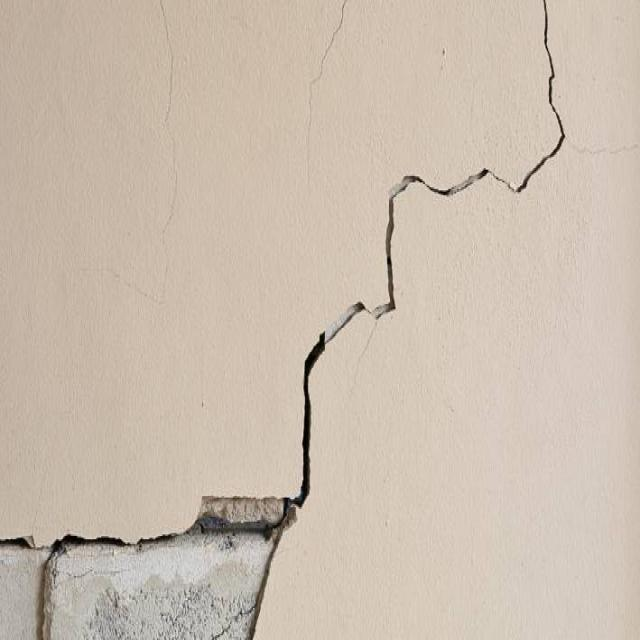Crack: (250, 0, 567, 638), (0, 471, 292, 566), (306, 0, 344, 190), (161, 0, 175, 306), (566, 136, 639, 158)
